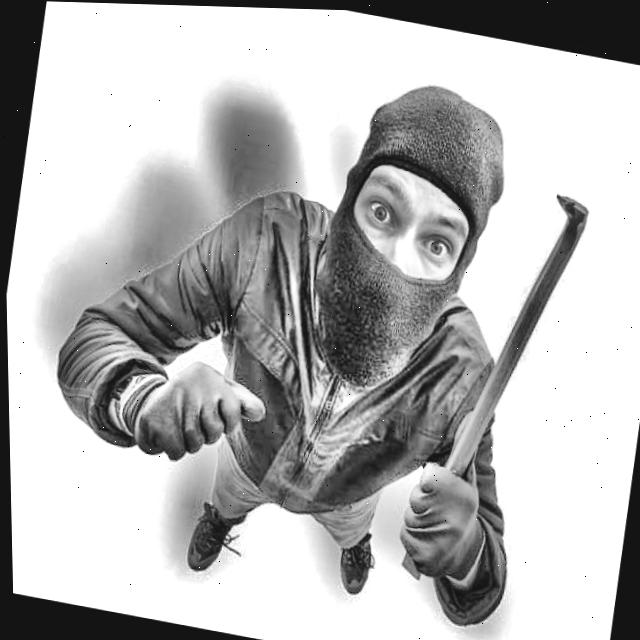robbery: (41, 84, 606, 640)
